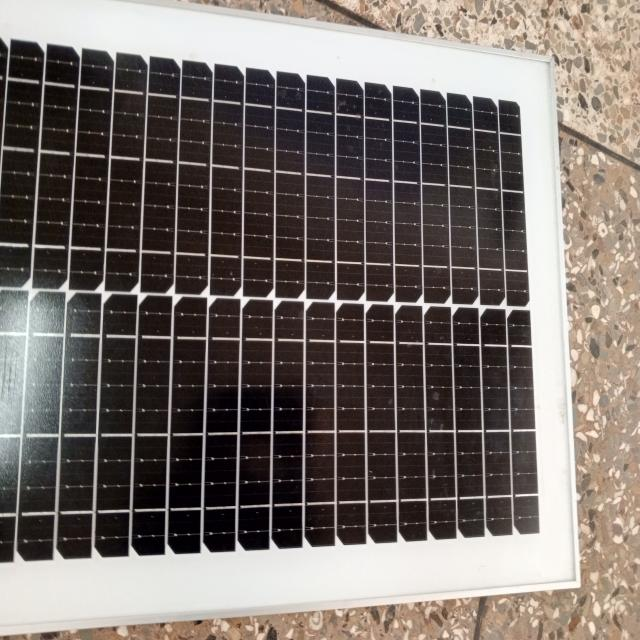Clean: (58, 98, 548, 572)
